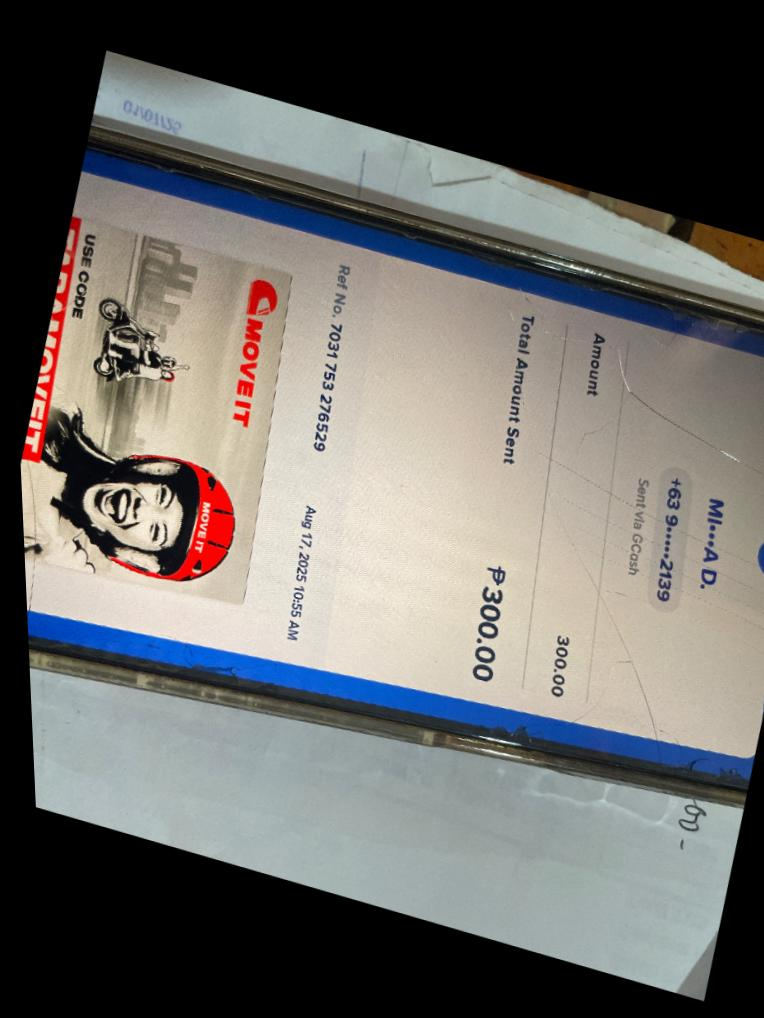Receipt: (21, 157, 764, 781)
